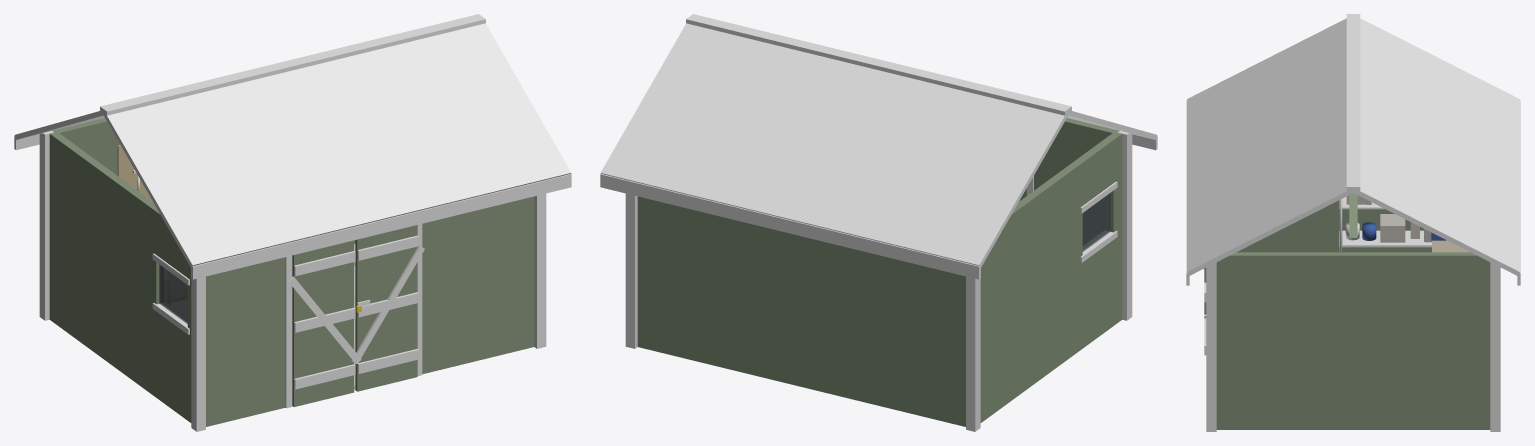
File: hood_shed.glb
The picture shows the model from 3 angles, left to right: view 1: azimuth 30°, elevation 25°; view 2: azimuth 150°, elevation 25°; view 3: azimuth 270°, elevation 25°; orthographic projection. The views are drawn at different scales.
Parts seen in each view (by area): view 1: roof.004, gable.004, corner.006, door_leaf, door_leaf.001, lamp_arm.003, door_brace.007, door_brace.006, window_pane, pegboard; view 2: gable.004, roof.004, corner.006, lamp_arm.003, window_pane; view 3: roof.004, gable.004, corner.006, lamp_arm.003, hammer_head.003, carton.008, bench_shelf.003, paint_can.008.
Boxes of the visible parts, left/top/right/bottom form: roof.004: left=14, top=23, right=571, bottom=267; gable.004: left=49, top=118, right=534, bottom=426; corner.006: left=14, top=131, right=571, bottom=431; door_leaf: left=292, top=240, right=354, bottom=406; door_leaf.001: left=355, top=225, right=417, bottom=391; lamp_arm.003: left=100, top=14, right=485, bottom=115; door_brace.007: left=351, top=235, right=424, bottom=373; door_brace.006: left=288, top=251, right=361, bottom=389; window_pane: left=159, top=264, right=187, bottom=323; pegboard: left=117, top=145, right=152, bottom=201; gable.004: left=637, top=118, right=1122, bottom=426; roof.004: left=600, top=23, right=1157, bottom=267; corner.006: left=600, top=131, right=1157, bottom=431; lamp_arm.003: left=686, top=14, right=1071, bottom=115; window_pane: left=1082, top=193, right=1110, bottom=251; roof.004: left=1187, top=18, right=1519, bottom=275; gable.004: left=1216, top=193, right=1490, bottom=429; corner.006: left=1186, top=100, right=1520, bottom=431; lamp_arm.003: left=1346, top=14, right=1360, bottom=190; hammer_head.003: left=1339, top=196, right=1431, bottom=252; carton.008: left=1346, top=195, right=1431, bottom=242; bench_shelf.003: left=1432, top=240, right=1469, bottom=252; paint_can.008: left=1362, top=222, right=1446, bottom=240.
Bounding box in the file's own units: 4.9 × 3.33 × 4.
